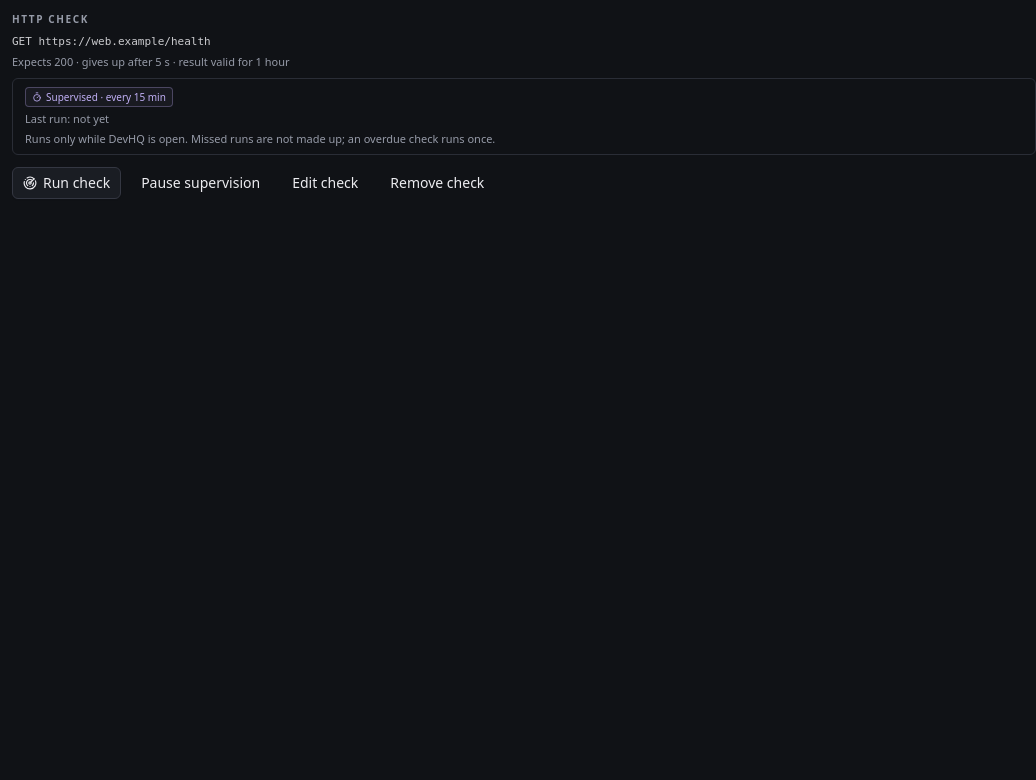
Test: choosing a supervision interval › warns when the result would expire before the next run and shows DevHQ’s refusal
Click the button "Edit check" at {"x": 325, "y": 183}, box [280,167,370,199]
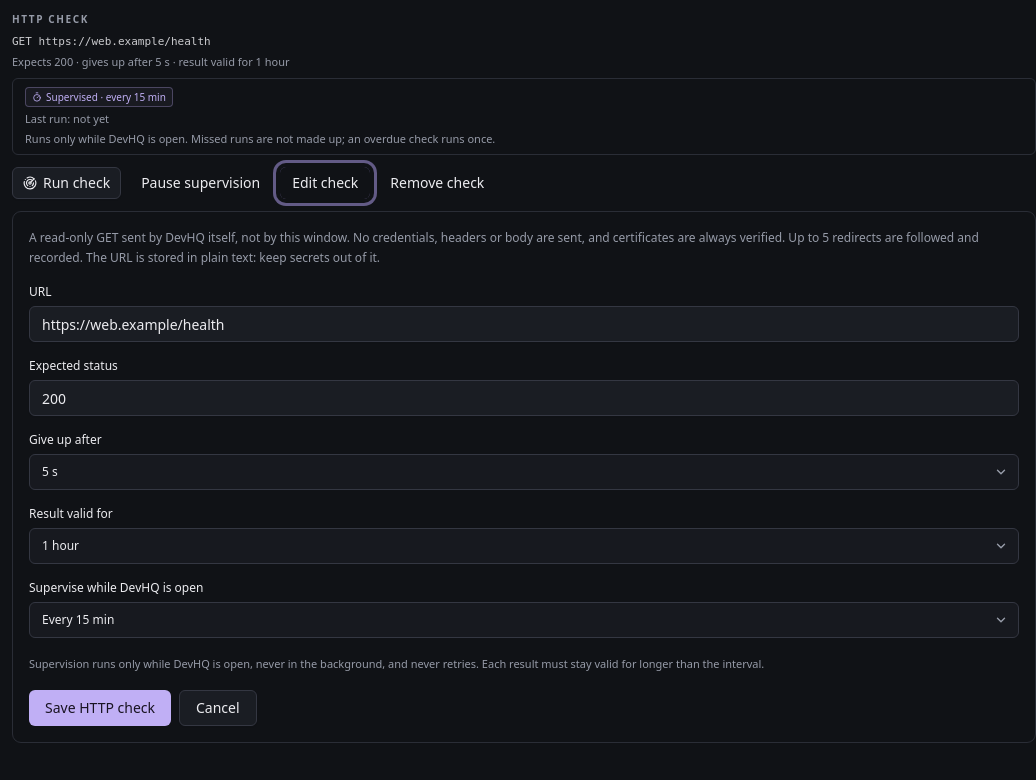
Now the dropdown labelled "Supervise while DevHQ is open" shows "Every 15 min", box [29,602,1019,638]
Select "15 min" in the dropdown labelled "Result valid for" at {"x": 524, "y": 546}, box [29,528,1019,564]
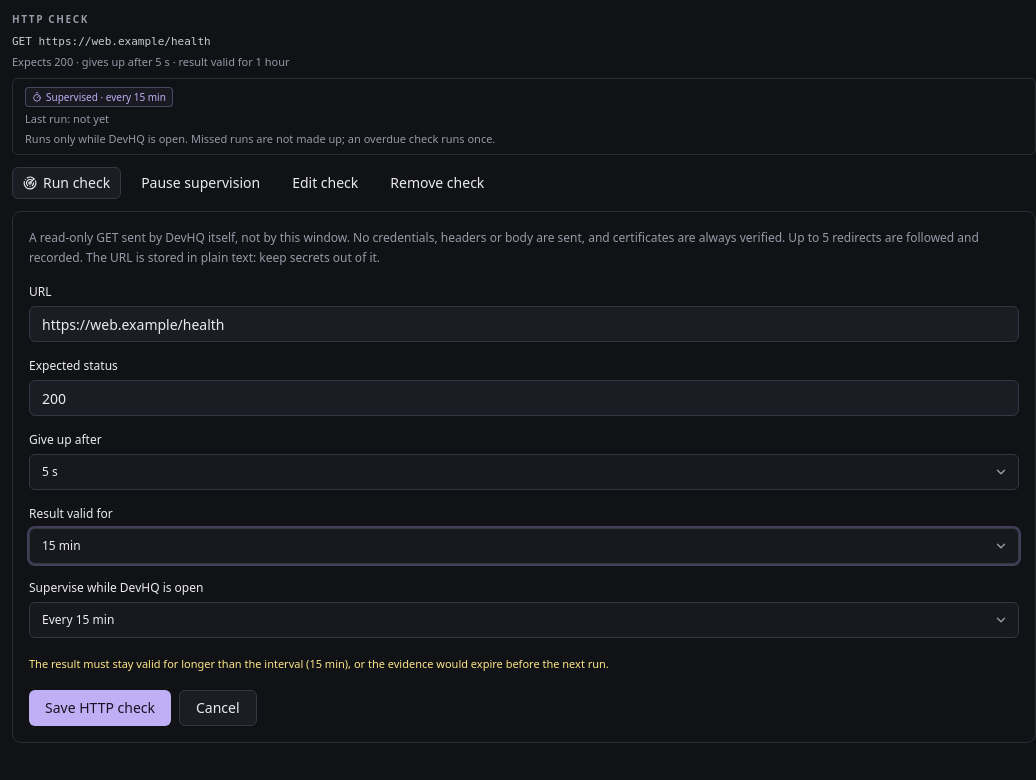
Click the button "Save HTTP check" at {"x": 100, "y": 708}, box [29,690,171,726]
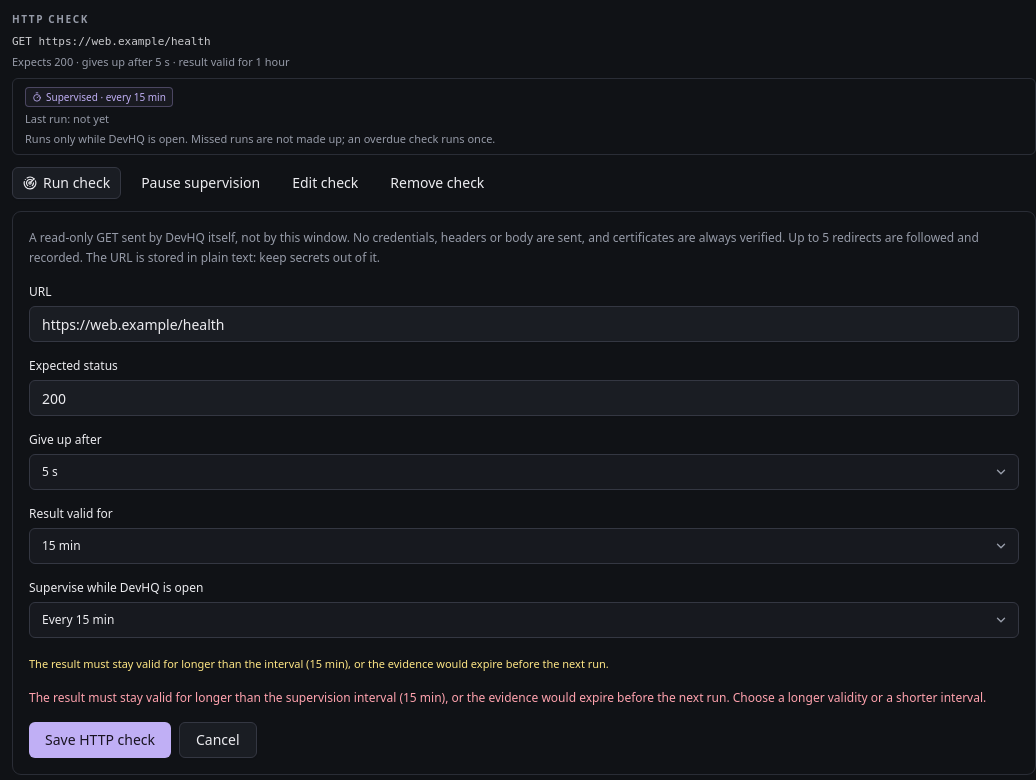
Now the form named "Configure HTTP check" is shown
Now the message shows "The result must stay valid for longer than the supervision interval (15 min), or the evidence would expire before the next run. Choose a longer validity or a sh", box [29,689,986,706]
